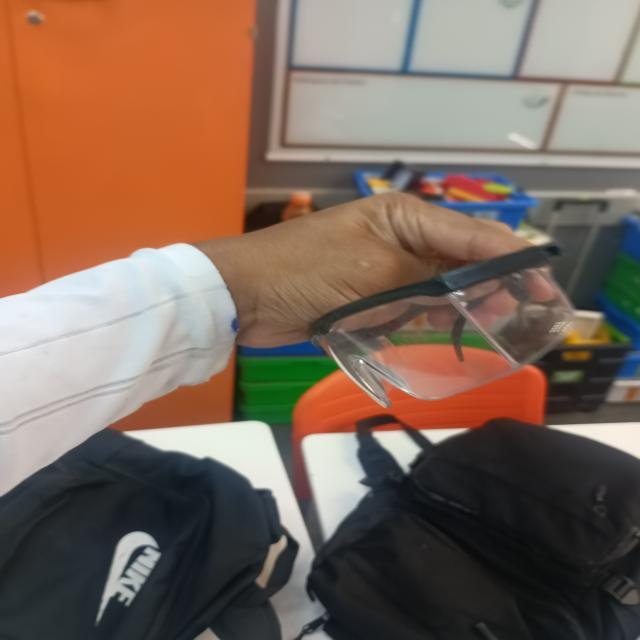oculos-epi: (313, 243, 573, 407)
